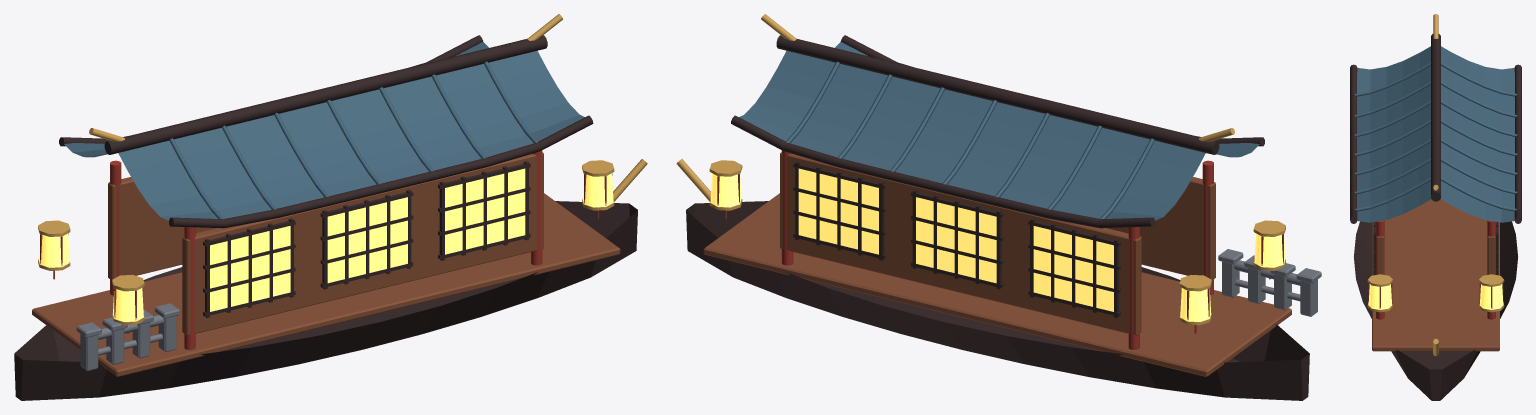
Rendered from model-boat.glb.
3 renders of one model, left to right at view 1: azimuth 30°, elevation 25°; view 2: azimuth 150°, elevation 25°; view 3: azimuth 270°, elevation 25°, orthographic. The views are drawn at different scales.
Visible parts, largest first — view 1: model-boat; view 2: model-boat; view 3: model-boat.
Boxes of the visible parts, <box> form: model-boat: <box>14,14,647,400</box>; model-boat: <box>676,14,1321,400</box>; model-boat: <box>1350,14,1521,400</box>.
Bounding box in the file's own units: 11.24 × 4.32 × 3.55.
